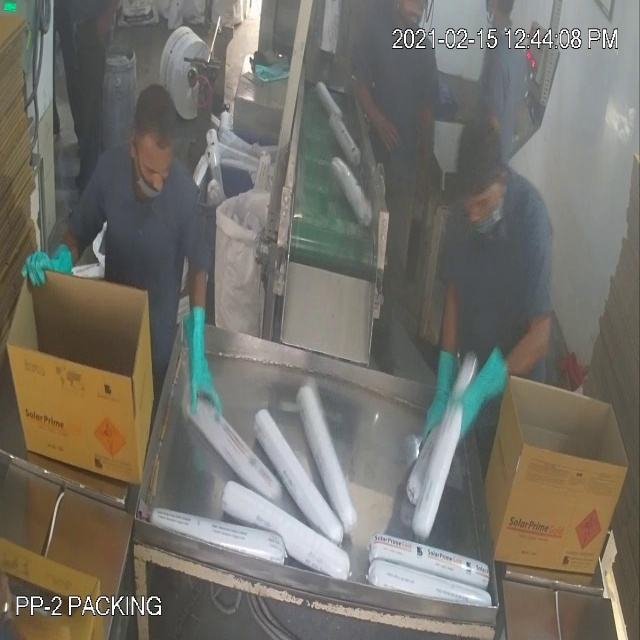Guantes: (166, 298, 224, 427), (458, 336, 510, 460), (18, 237, 93, 308), (416, 339, 464, 446)
Sin_guantes: (357, 62, 402, 144), (415, 92, 436, 206)
